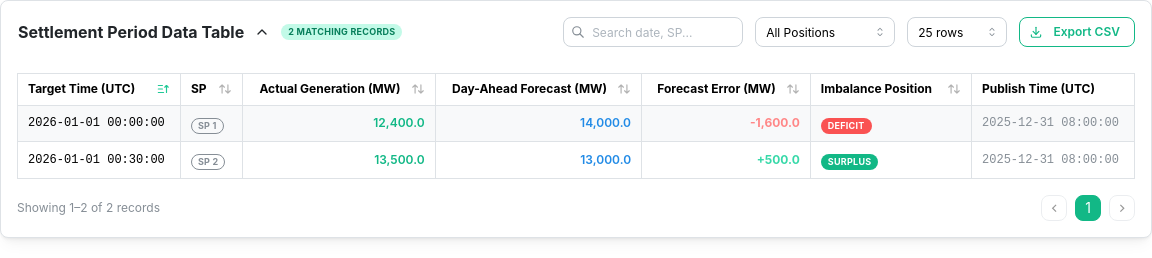
Scenario: DataTable component › renders settlement interval rows and handles filtering
Expected: the text "12,400.0" is shown, [373,115,425,130]
Expected: the text "13,500.0" is shown, [374,152,425,167]
Type "SP 2" into the field with placeholder "Search date, SP..." at (653, 32), box [563,17,743,47]
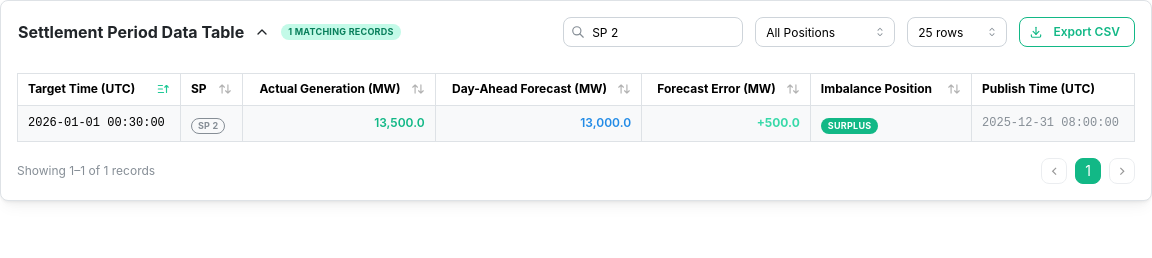
Expected: the text "13,500.0" is shown, [374,115,425,130]
Expected: the text "12,400.0" is gone
